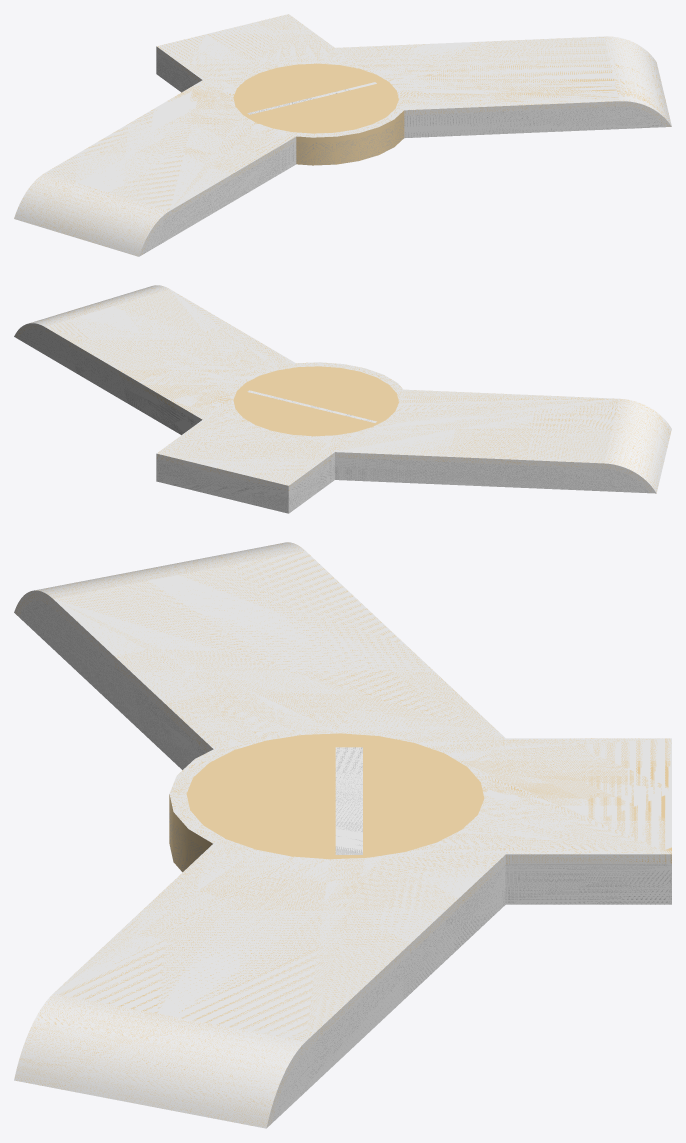
The picture shows the model from 3 angles, top to bottom: view 1: azimuth 30°, elevation 25°; view 2: azimuth 150°, elevation 25°; view 3: azimuth 270°, elevation 25°; orthographic projection. The views are drawn at different scales.
Bounding box in the file's own units: 1.04 × 0.0432 × 0.5134.
